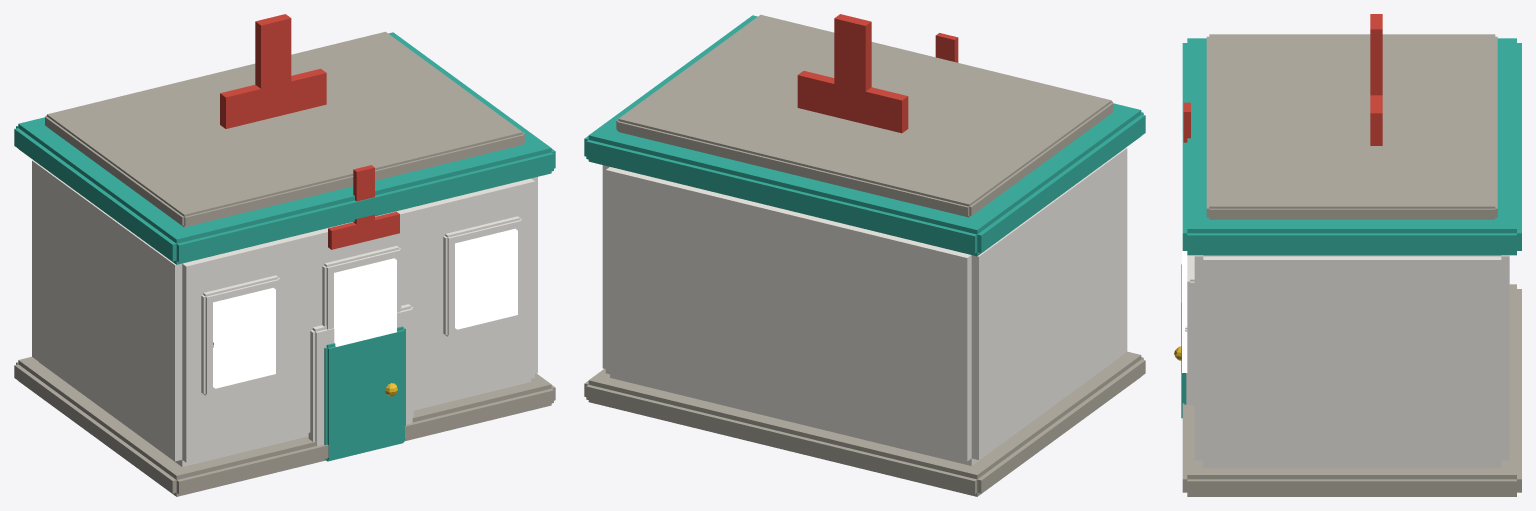
File: clinic.glb
3 renders of one model, left to right at view 1: azimuth 30°, elevation 25°; view 2: azimuth 150°, elevation 25°; view 3: azimuth 270°, elevation 25°, orthographic. The views are drawn at different scales.
Parts seen in each view (by area): view 1: clinic; view 2: clinic; view 3: clinic.
Boxes of the visible parts, x1,y1,x2,y2 form: clinic: (14, 14, 555, 496); clinic: (584, 14, 1145, 496); clinic: (1174, 14, 1521, 496).
Size of the model in its own units: 1.9 by 1.73 by 1.43.
